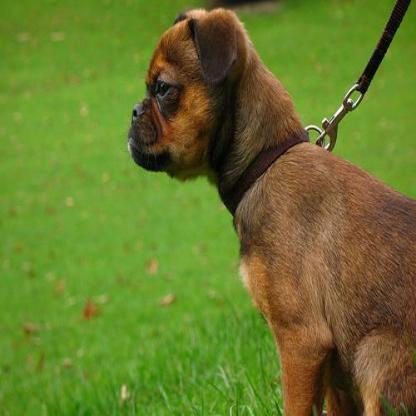Brabancon_griffon: (125, 6, 414, 414)
